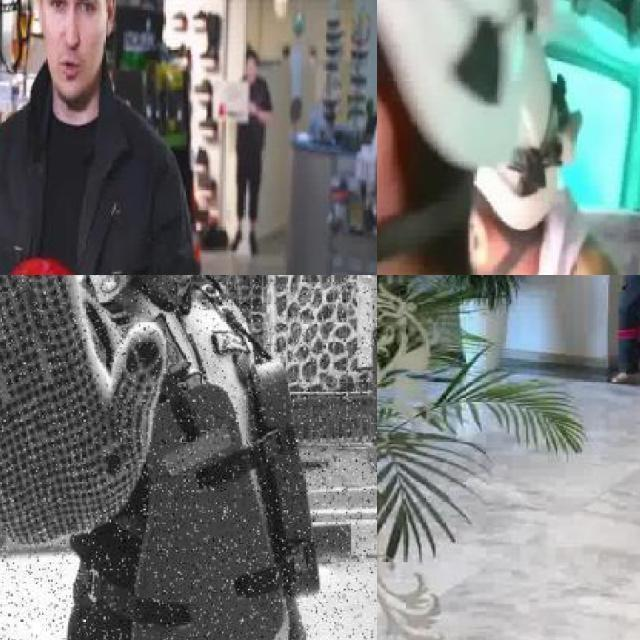apron: (0, 275, 173, 554)
